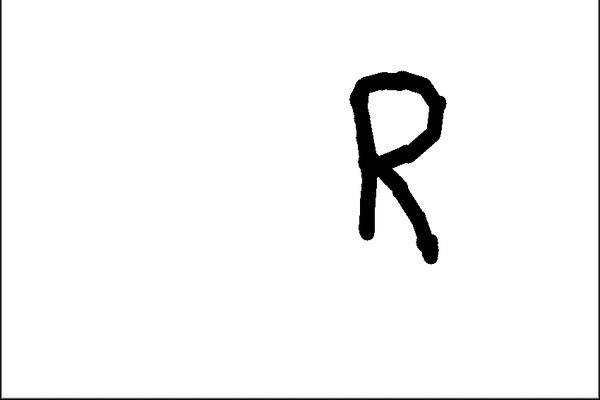R: (339, 53, 458, 273)
